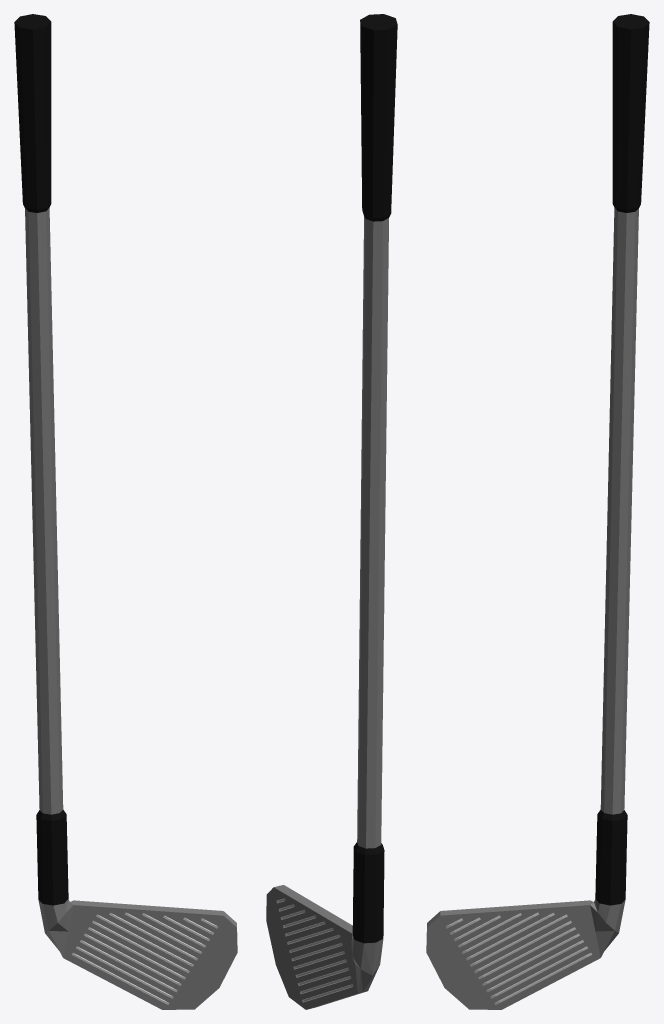
The model's file is Golf Club.obj.
3 renders of one model, left to right at view 1: azimuth 90°, elevation 25°; view 2: azimuth 210°, elevation 25°; view 3: azimuth 270°, elevation 25°, orthographic. The views are drawn at different scales.
Visible parts, largest first — view 1: Golf_Club_Circle.009; view 2: Golf_Club_Circle.009; view 3: Golf_Club_Circle.009.
Part boxes in pixels (x1,y1,x2,y2): Golf_Club_Circle.009: (14,14,237,1009); Golf_Club_Circle.009: (266,14,397,1009); Golf_Club_Circle.009: (426,14,649,1009).
Bounding box in the file's own units: 0.0261 × 0.7687 × 0.1576.
